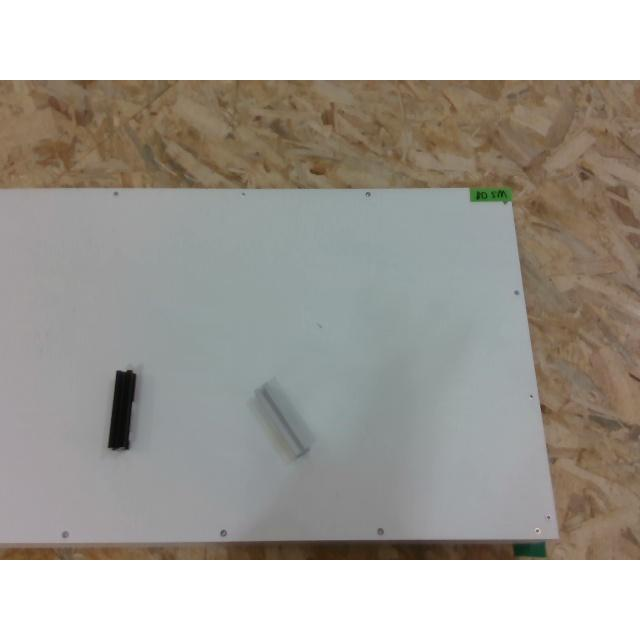F20_20_B: (108, 369, 136, 449)
F20_20_G: (254, 378, 314, 458)
